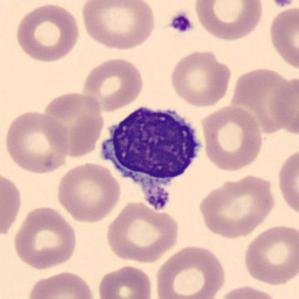Lymphocyte: (95, 98, 208, 215)
Platelets: (168, 11, 195, 34), (268, 0, 296, 8)
RBC: (196, 172, 278, 240), (103, 199, 181, 264), (227, 65, 296, 134), (2, 108, 72, 175), (40, 89, 106, 158), (12, 204, 79, 271), (198, 104, 264, 172), (12, 1, 83, 64), (54, 160, 122, 224), (152, 243, 228, 299), (79, 0, 158, 51), (168, 48, 232, 108), (80, 55, 145, 113), (241, 222, 298, 287), (192, 0, 265, 42), (266, 5, 299, 73), (24, 269, 98, 299), (96, 263, 154, 299), (268, 72, 298, 138), (0, 168, 24, 239), (276, 145, 298, 220), (213, 283, 285, 299)
